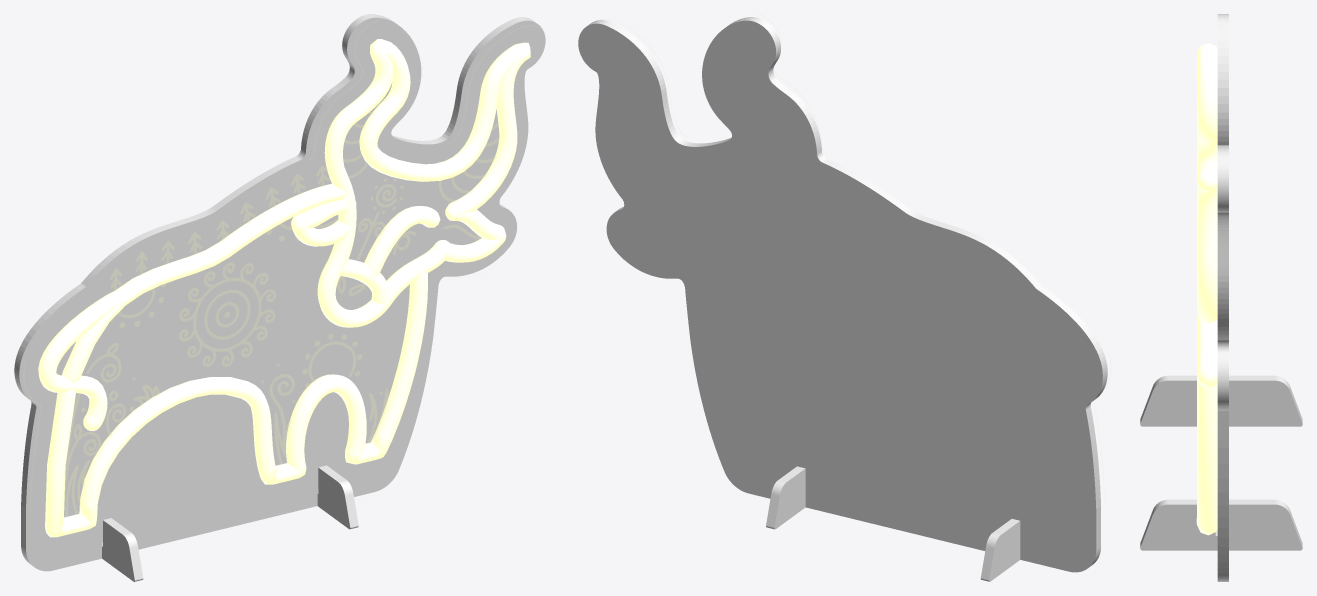
The model's file is БИЧОК_САЙТ_2.glb.
3 renders of one model, left to right at view 1: azimuth 30°, elevation 25°; view 2: azimuth 150°, elevation 25°; view 3: azimuth 270°, elevation 25°, orthographic. The views are drawn at different scales.
Parts seen in each view (by area): view 1: Curve.001, Curve.014, Curve.013, Curve.005; view 2: Curve.001, Curve.005; view 3: Curve.005, Curve.014, Curve.001.
Part boxes in pixels (<box>): Curve.001: <box>14,14,545,571</box>; Curve.014: <box>38,39,530,537</box>; Curve.013: <box>65,98,499,517</box>; Curve.005: <box>102,465,358,581</box>; Curve.001: <box>578,17,1107,572</box>; Curve.005: <box>766,466,1020,581</box>; Curve.005: <box>1140,375,1302,550</box>; Curve.014: <box>1196,43,1217,535</box>; Curve.001: <box>1217,14,1228,581</box>.
Size of the model in its own units: 0.3094 by 0.2667 by 0.0701.
Materials: 3 (1 with a texture image).
